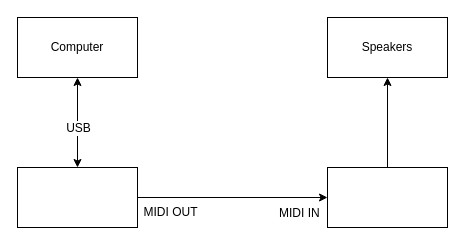
Some shapes in this 465 by 245 pixel diagram are drawn without their labels. The shapes that lost their labels are listed below. From the top down, each one's centre as x and y in pixels, then its label:
point 77,197: MIDI Device
point 387,197: Hardware Synthesizer
